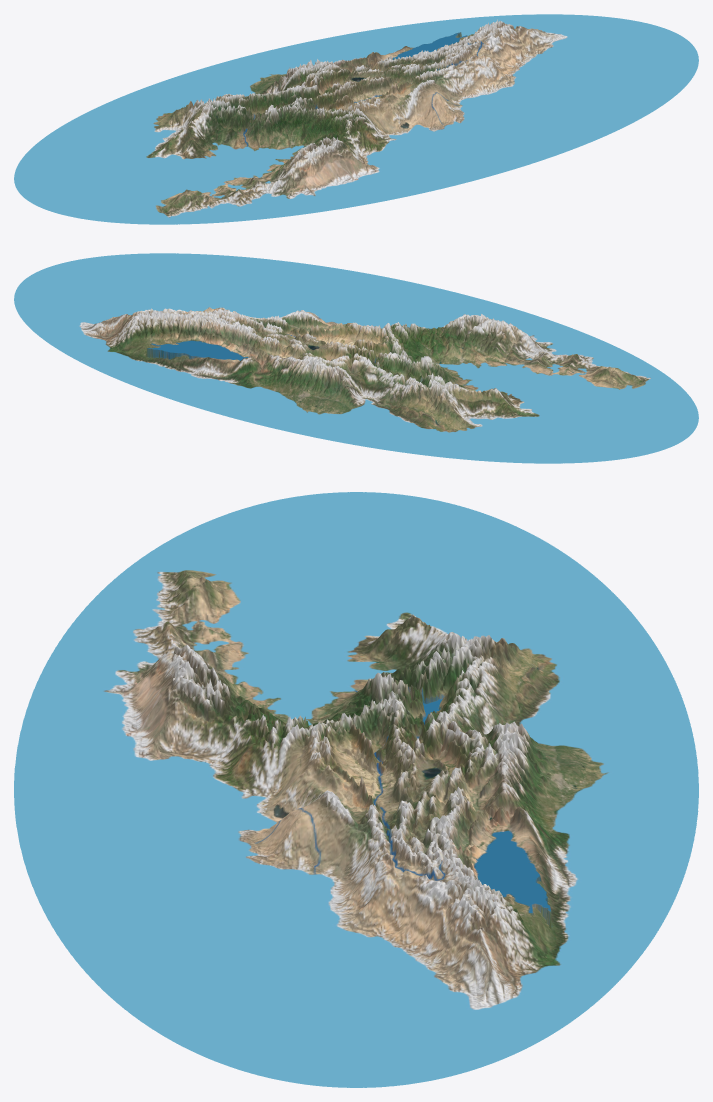
Rendered from KGZ-previa-terrain.glb.
The picture shows the model from 3 angles, top to bottom: view 1: azimuth 30°, elevation 25°; view 2: azimuth 150°, elevation 25°; view 3: azimuth 270°, elevation 25°; orthographic projection. The views are drawn at different scales.
Visible parts, largest first — view 1: Quirguistão; view 2: Quirguistão; view 3: Quirguistão.
Part boxes in pixels (left/top/right/bottom): Quirguistão: left=14, top=14, right=698, bottom=224; Quirguistão: left=14, top=253, right=698, bottom=463; Quirguistão: left=14, top=492, right=698, bottom=1087.
Size of the model in its own units: 2.39 by 0.1127 by 1.16.
1 material, 1 textured.
